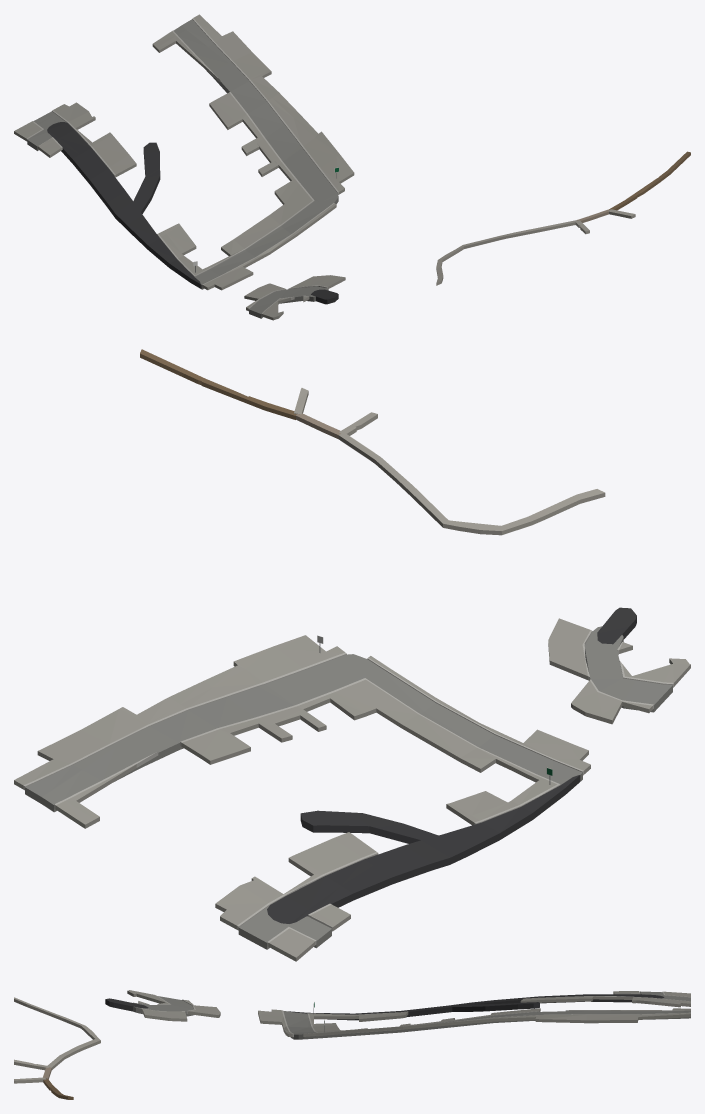
The picture shows the model from 3 angles, top to bottom: view 1: azimuth 30°, elevation 25°; view 2: azimuth 150°, elevation 25°; view 3: azimuth 270°, elevation 25°; orthographic projection. The views are drawn at different scales.
Size of the model in its own units: 105 by 30.25 by 146.
